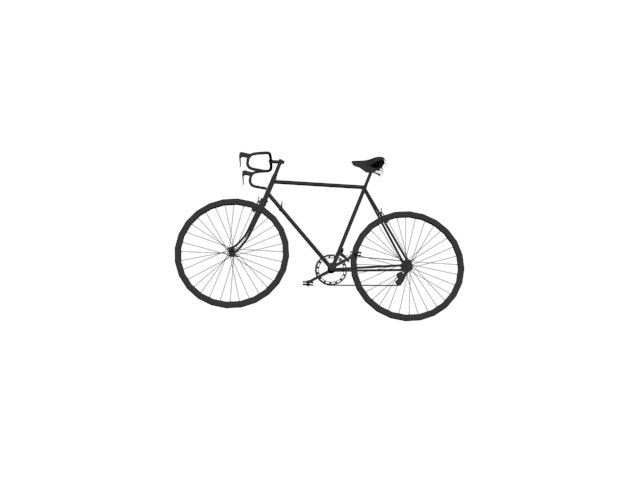bike: (169, 145, 471, 328)
